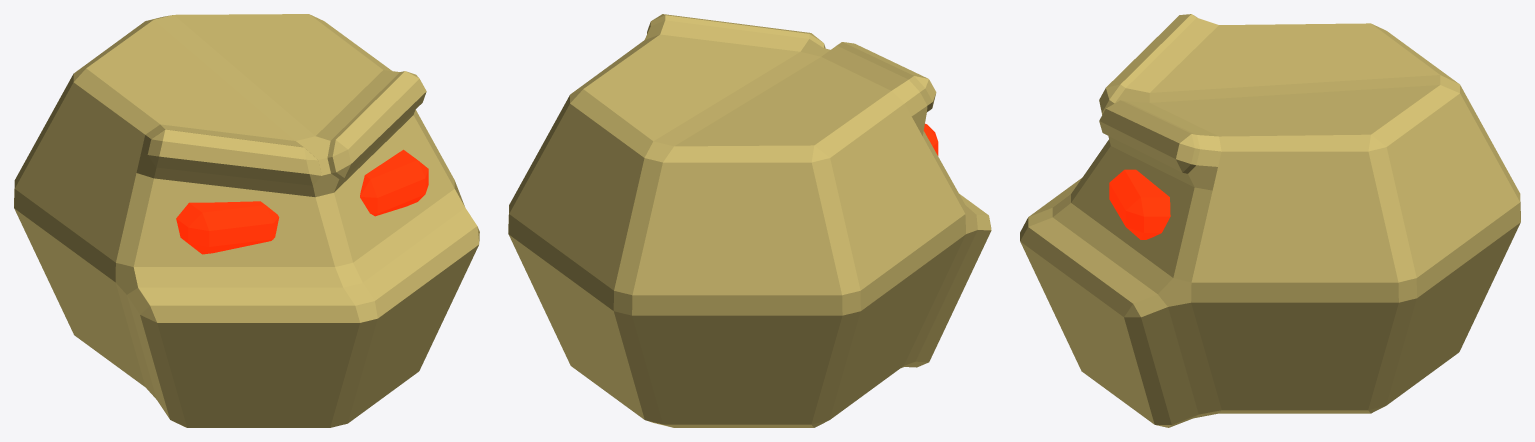
The model's file is god_head.fbx.
3 views of the same model, side by side, from view 1: azimuth 30°, elevation 25°; view 2: azimuth 150°, elevation 25°; view 3: azimuth 270°, elevation 25° (orthographic). The views are drawn at different scales.
Parts seen in each view (by area): view 1: Circle, Cube; view 2: Circle; view 3: Circle, Cube.
Part boxes in pixels (left/top/right/bottom): Circle: left=14, top=14, right=479, bottom=427; Cube: left=176, top=149, right=428, bottom=254; Circle: left=508, top=14, right=991, bottom=427; Circle: left=1020, top=14, right=1520, bottom=427; Cube: left=1109, top=169, right=1170, bottom=239.
Bounding box in the file's own units: 1.7 × 1.39 × 2.12.
